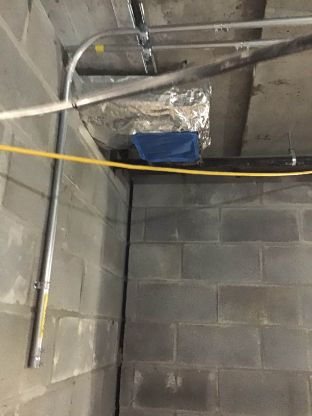Duct: (65, 68, 222, 167)
